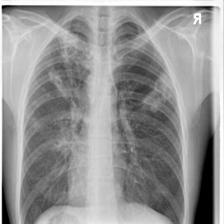tuberculosis: (13, 9, 192, 224)
